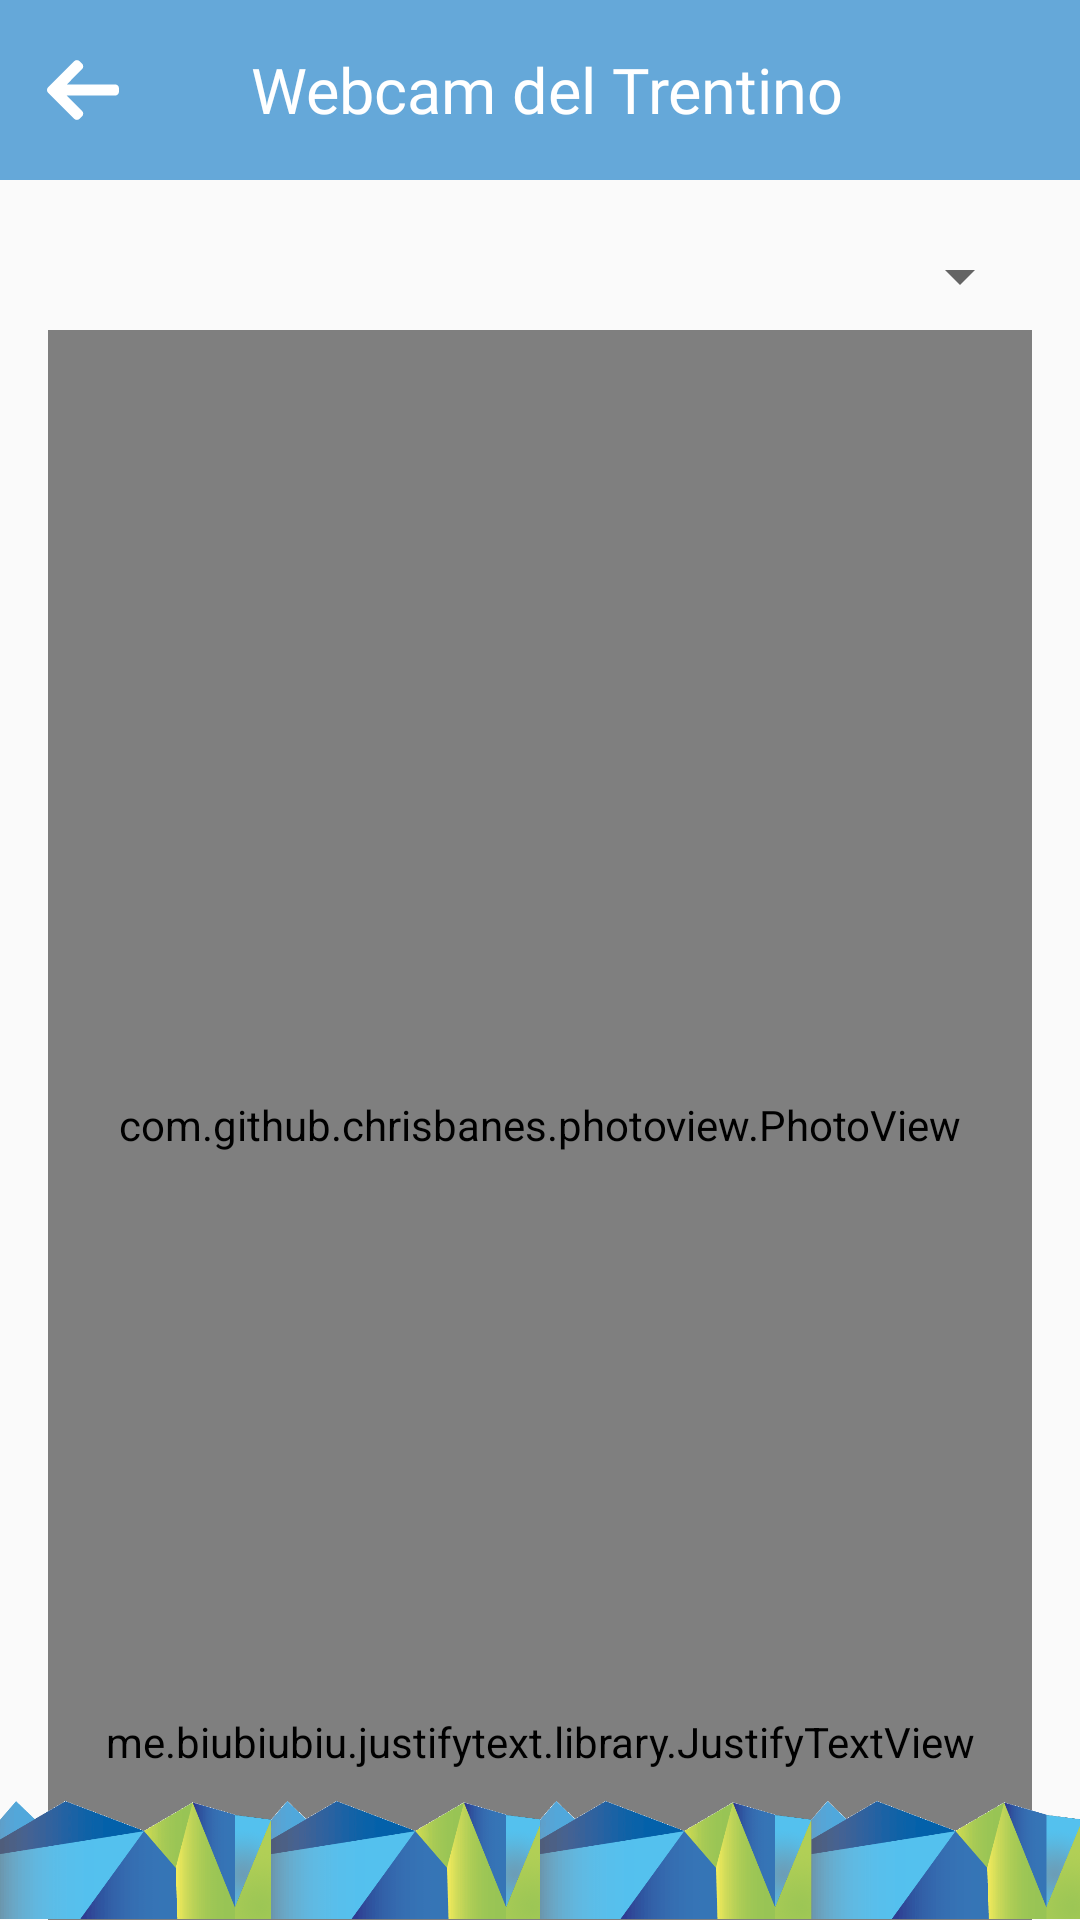

Point at icon controls on the screen. Image size 1080px x 1920px, points as [x,y].
arrow back: [83,90]
